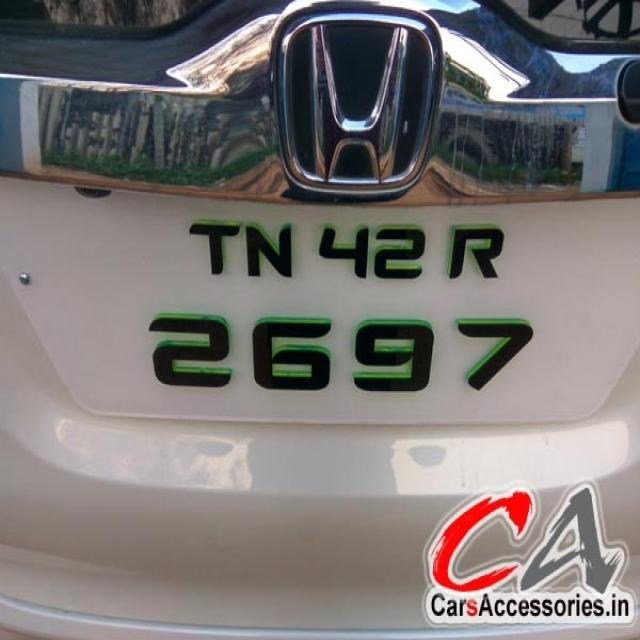number_plate: (121, 203, 558, 420)
